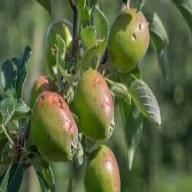apple: (30, 90, 80, 162), (73, 71, 116, 143), (108, 8, 149, 73), (80, 140, 121, 188)
